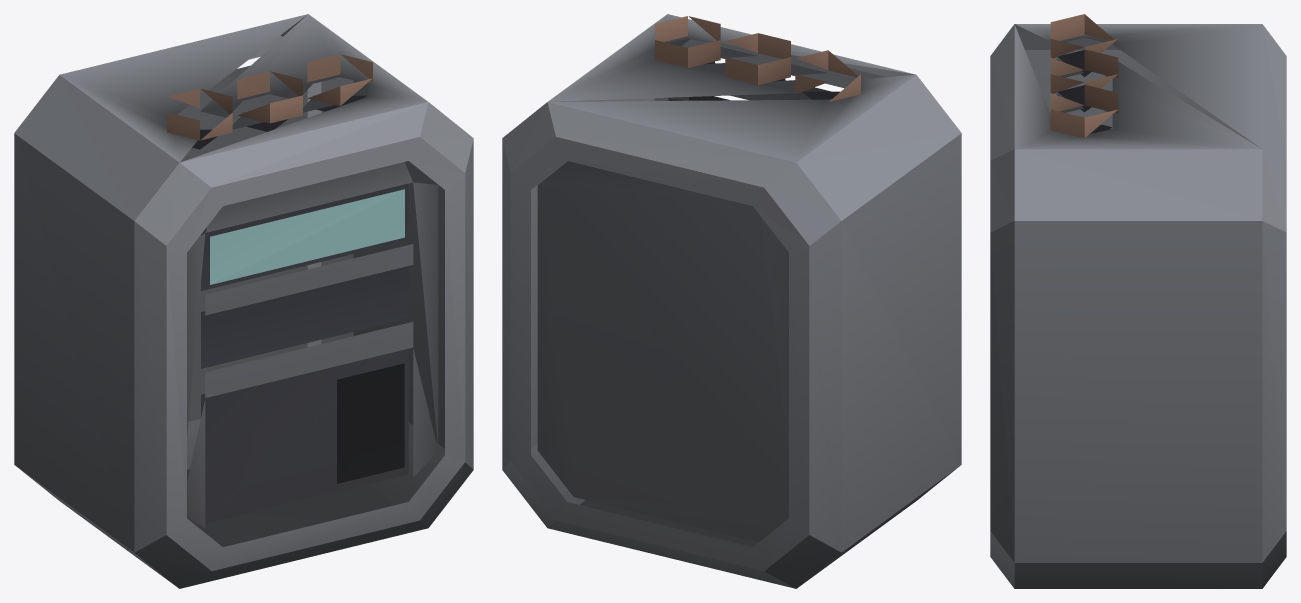
File: battery.lod.glb
The picture shows the model from 3 angles, left to right: view 1: azimuth 30°, elevation 25°; view 2: azimuth 150°, elevation 25°; view 3: azimuth 270°, elevation 25°; orthographic projection. The views are drawn at different scales.
Visible parts, largest first — view 1: battery; view 2: battery; view 3: battery.
Part boxes in pixels (x1=…): battery: x1=14, y1=14, x2=473, y2=588; battery: x1=502, y1=14, x2=961, y2=588; battery: x1=990, y1=14, x2=1286, y2=588.
Bounding box in the file's own units: 1.5 × 1.88 × 1.1.
